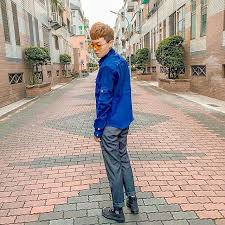people: (87, 22, 141, 223)
